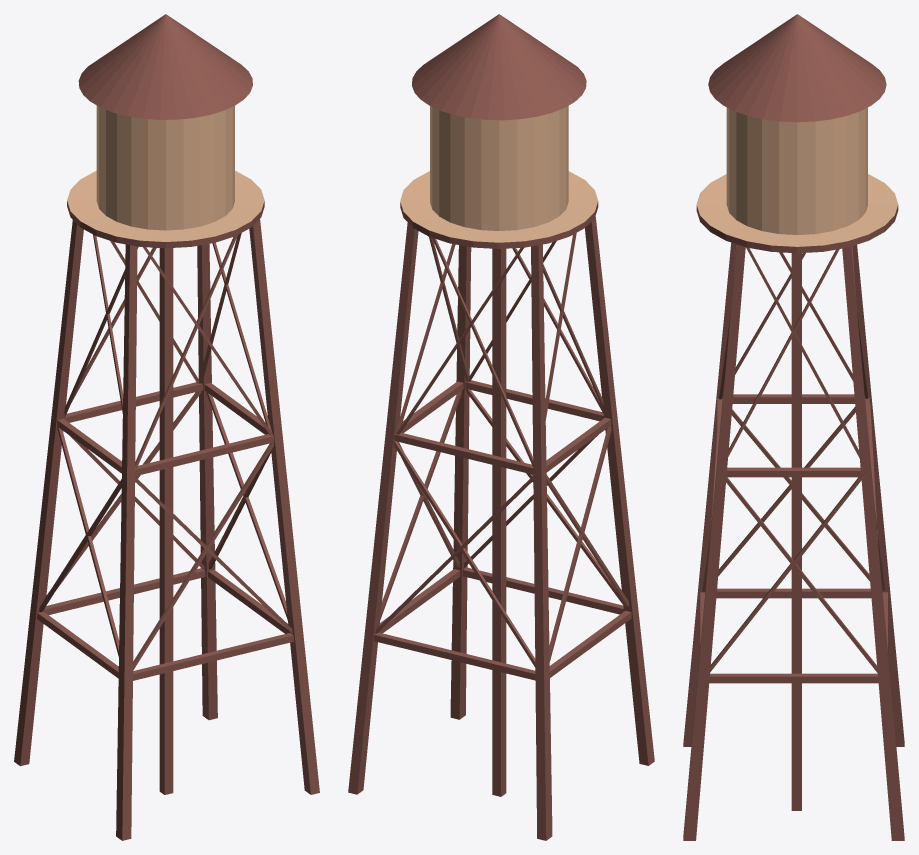
File: water_tower.fbx
3 renders of one model, left to right at view 1: azimuth 30°, elevation 25°; view 2: azimuth 150°, elevation 25°; view 3: azimuth 270°, elevation 25°, orthographic. The views are drawn at different scales.
Parts seen in each view (by area): view 1: Cube.006; view 2: Cube.006; view 3: Cube.006.
Part boxes in pixels (x1,y1,x2,y2): Cube.006: (14, 14, 319, 840); Cube.006: (348, 14, 654, 840); Cube.006: (683, 14, 904, 840).
Size of the model in its own units: 935 by 3517 by 888.
